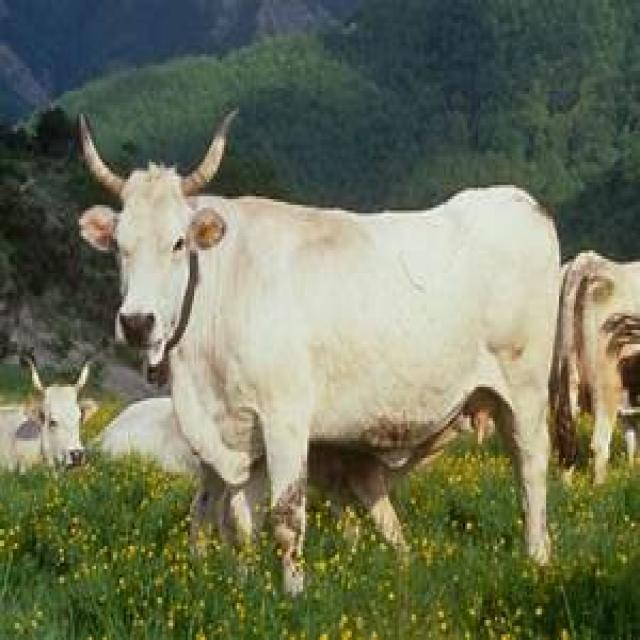cow: (81, 120, 561, 594), (0, 358, 88, 469)
